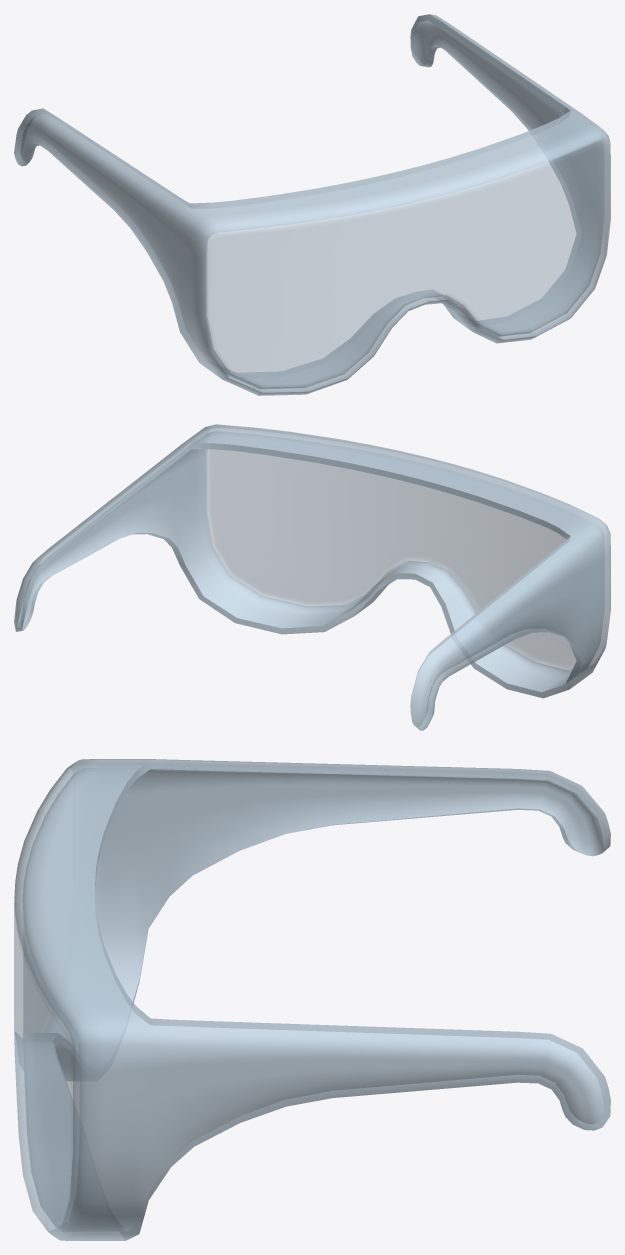
The model's file is SafetyGoggles.fbx.
3 views of the same model, one above another, from view 1: azimuth 30°, elevation 25°; view 2: azimuth 150°, elevation 25°; view 3: azimuth 270°, elevation 25° (orthographic). The views are drawn at different scales.
Parts seen in each view (by area): view 1: SafetyGoggles; view 2: SafetyGoggles; view 3: SafetyGoggles.
Boxes of the visible parts, box(x1,y1,x2,y2) form: SafetyGoggles: box(14, 14, 610, 395); SafetyGoggles: box(14, 424, 610, 730); SafetyGoggles: box(14, 759, 610, 1240).
Bounding box in the file's own units: 71.97 × 30.52 × 64.83.
